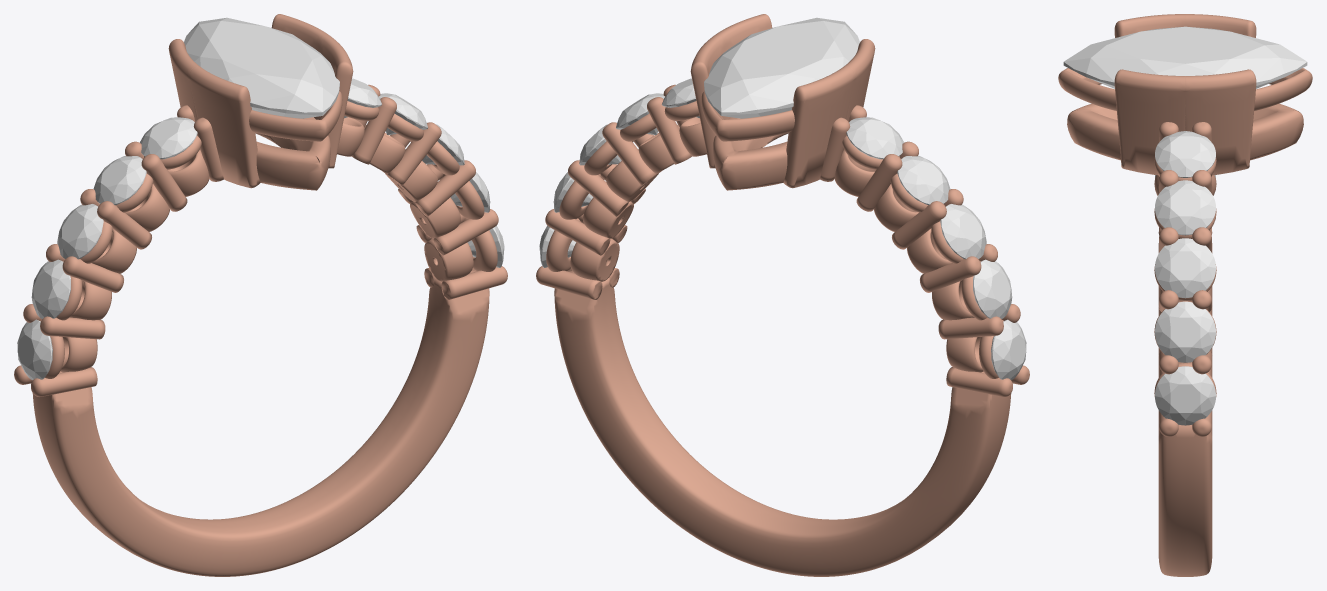
File: diamond-marquise-rosegold-halfmoonbezel-straightband-11stone.glb
3 renders of one model, left to right at view 1: azimuth 30°, elevation 25°; view 2: azimuth 150°, elevation 25°; view 3: azimuth 270°, elevation 25°, orthographic.
Parts seen in each view (by area): view 1: metal.003, stone.002, side.022, side.023, side.021, side.024, side.020, side.028, side.029; view 2: metal.003, stone.002, side.022, side.023, side.021, side.024, side.020, side.028, side.029; view 3: metal.003, stone.002, side.026, side.027, side.025, side.028, side.029.
Boxes of the visible parts, x1=… form: metal.003: x1=14, y1=14, x2=507, y2=576; stone.002: x1=184, y1=17, x2=339, y2=118; side.022: x1=57, y1=204, x2=103, y2=259; side.023: x1=93, y1=156, x2=146, y2=205; side.021: x1=31, y1=259, x2=70, y2=318; side.024: x1=140, y1=117, x2=197, y2=159; side.020: x1=17, y1=319, x2=52, y2=380; side.028: x1=379, y1=93, x2=427, y2=134; side.029: x1=344, y1=78, x2=381, y2=118; metal.003: x1=536, y1=14, x2=1029, y2=576; stone.002: x1=704, y1=17, x2=859, y2=118; side.022: x1=940, y1=204, x2=986, y2=259; side.023: x1=897, y1=156, x2=950, y2=205; side.021: x1=973, y1=259, x2=1012, y2=318; side.024: x1=846, y1=117, x2=903, y2=159; side.020: x1=991, y1=319, x2=1026, y2=380; side.028: x1=616, y1=93, x2=664, y2=134; side.029: x1=662, y1=78, x2=699, y2=118; metal.003: x1=1058, y1=14, x2=1312, y2=576; stone.002: x1=1063, y1=26, x2=1307, y2=88; side.026: x1=1155, y1=301, x2=1215, y2=362; side.027: x1=1155, y1=238, x2=1215, y2=298; side.025: x1=1155, y1=366, x2=1215, y2=425; side.028: x1=1155, y1=180, x2=1215, y2=235; side.029: x1=1155, y1=131, x2=1215, y2=177.
Size of the model in its own units: 22.1 by 22.94 by 10.4.
